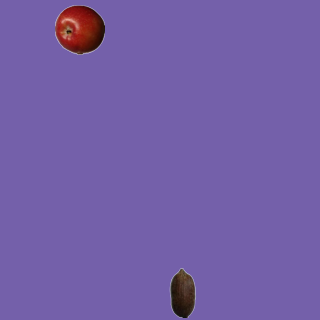Apple Braeburn: (54, 4, 104, 54)
Nut Pecan: (157, 267, 207, 317)
